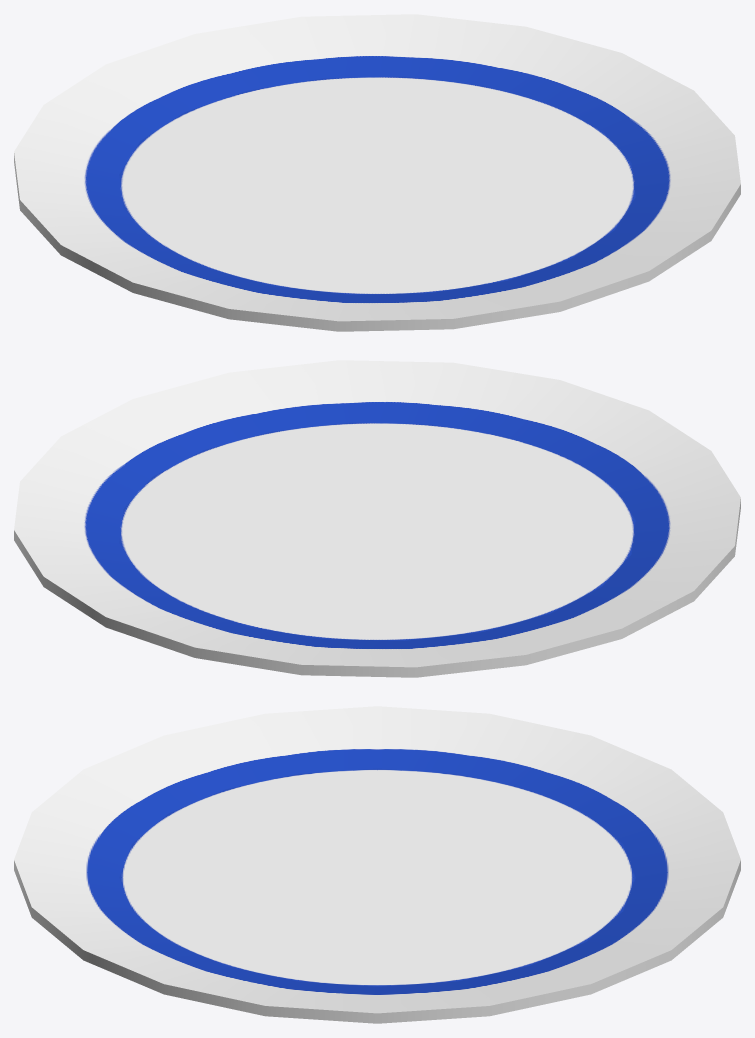
File: Plate.fbx
3 renders of one model, top to bottom at view 1: azimuth 30°, elevation 25°; view 2: azimuth 150°, elevation 25°; view 3: azimuth 270°, elevation 25°, orthographic.
Visible parts, largest first — view 1: Plate; view 2: Plate; view 3: Plate.
Part boxes in pixels (left/top/right/bottom): Plate: left=14, top=14, right=740, bottom=331; Plate: left=14, top=360, right=740, bottom=677; Plate: left=14, top=706, right=740, bottom=1023.
Size of the model in its own units: 1.27 by 0.0545 by 1.27.
Materials: 1 (1 with a texture image).
